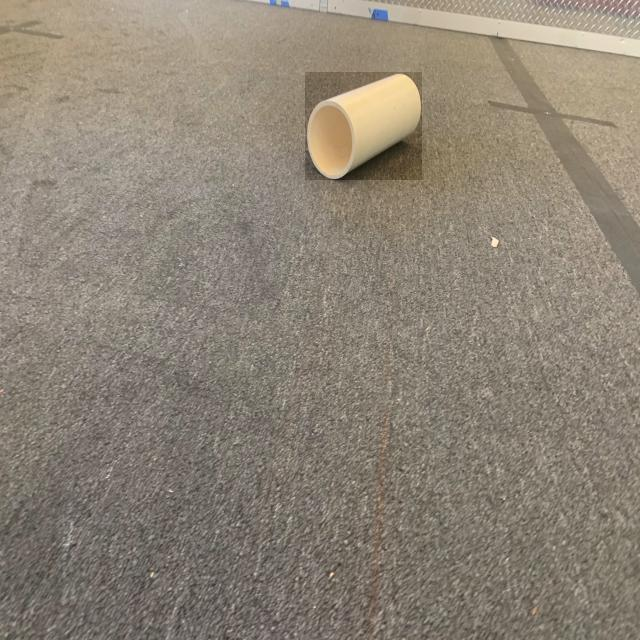Coral: (305, 72, 422, 180)
